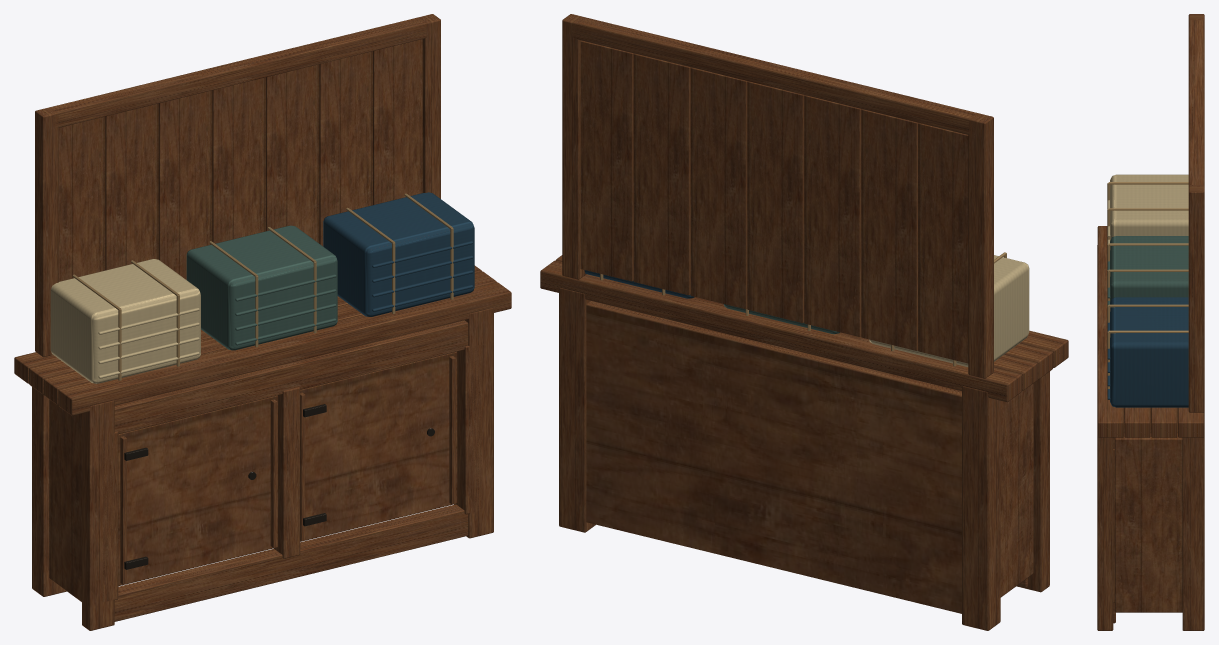
The model's file is b18-packing-finish.glb.
3 views of the same model, side by side, from view 1: azimuth 30°, elevation 25°; view 2: azimuth 150°, elevation 25°; view 3: azimuth 270°, elevation 25° (orthographic). The views are drawn at different scales.
Visible parts, largest first — view 1: b18-packing-finish; view 2: b18-packing-finish; view 3: b18-packing-finish.
Boxes of the visible parts, x1=… form: b18-packing-finish: x1=14, y1=14, x2=511, y2=630; b18-packing-finish: x1=540, y1=14, x2=1068, y2=630; b18-packing-finish: x1=1097, y1=14, x2=1204, y2=630.
Size of the model in its own units: 1.48 by 1.54 by 0.34.
1 material, 1 textured.
